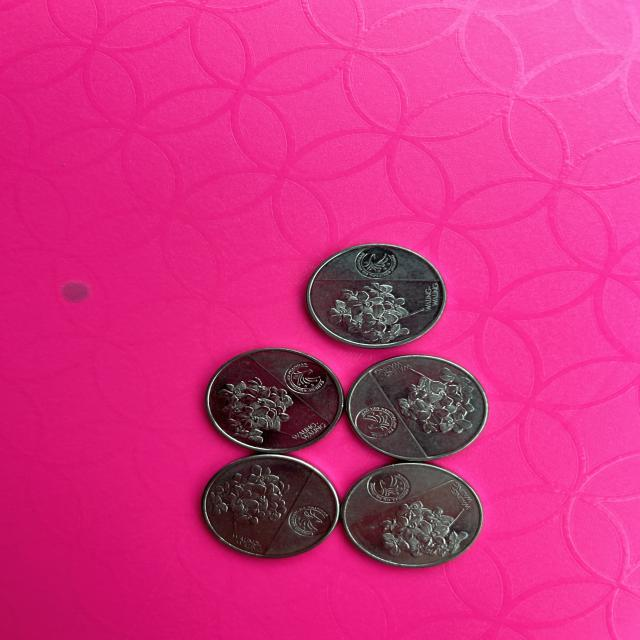1_New_Back: (326, 281, 416, 345), (217, 377, 309, 438), (202, 462, 287, 528), (395, 365, 470, 437), (373, 501, 471, 556)
